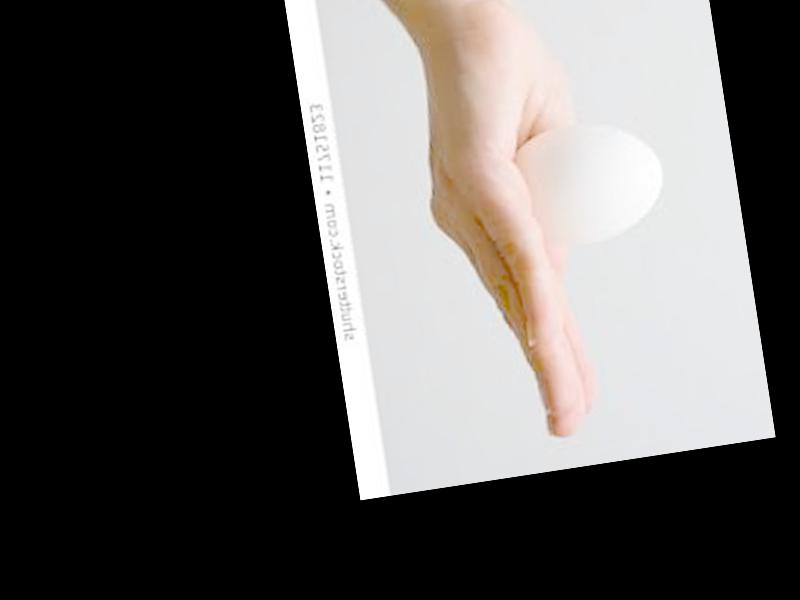Eggs: (511, 119, 670, 252)
